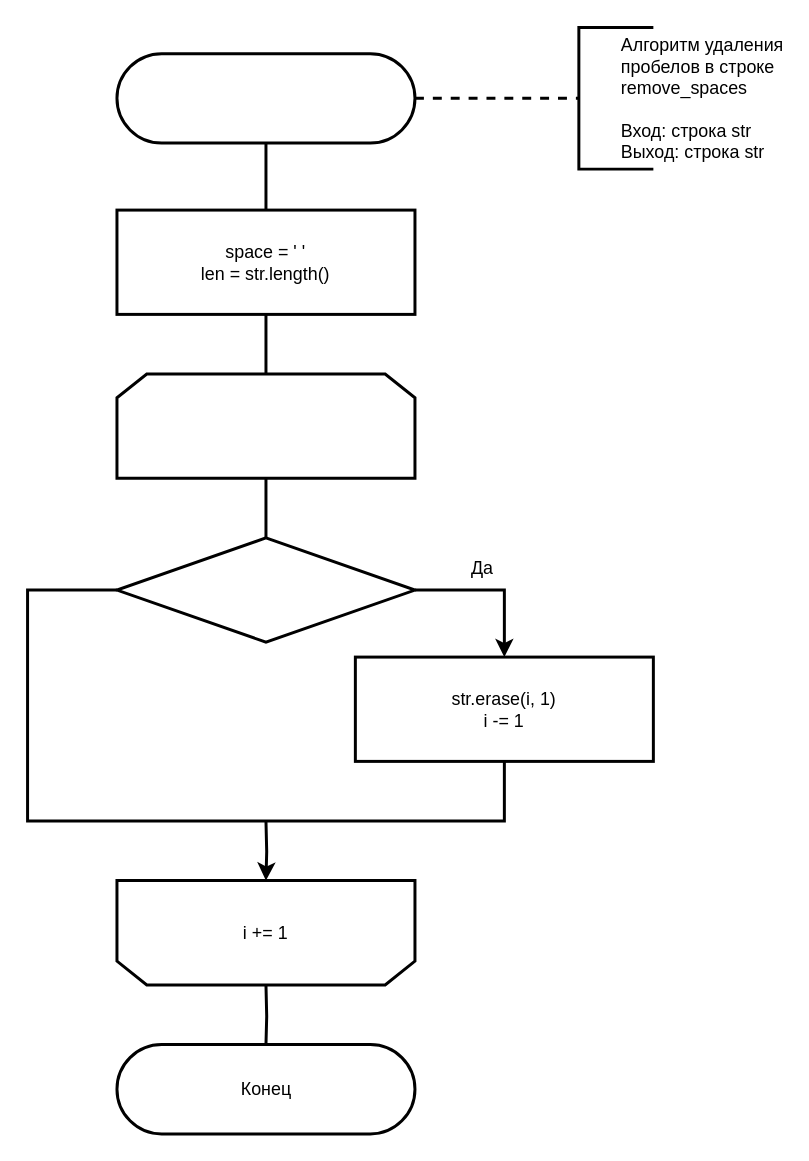
The diagram is 809 pixels wide and 1161 high, and some of its shapes have lost their labels. Here are the shapes that lost their labels. From the top down, the box of each, then its label:
(115, 51, 416, 144): Начало
(115, 372, 416, 479): Цикл i от 0 до len
(115, 536, 416, 643): str[i] == space ?
